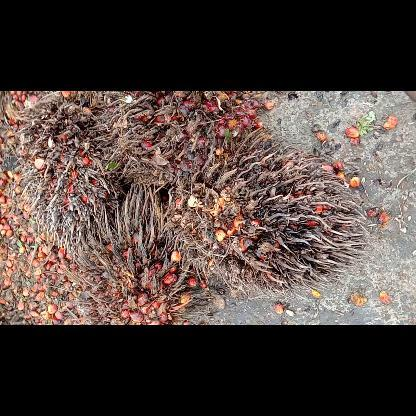Terlalu masak: (157, 122, 372, 304), (64, 180, 218, 324), (10, 91, 132, 256), (88, 91, 274, 195)
